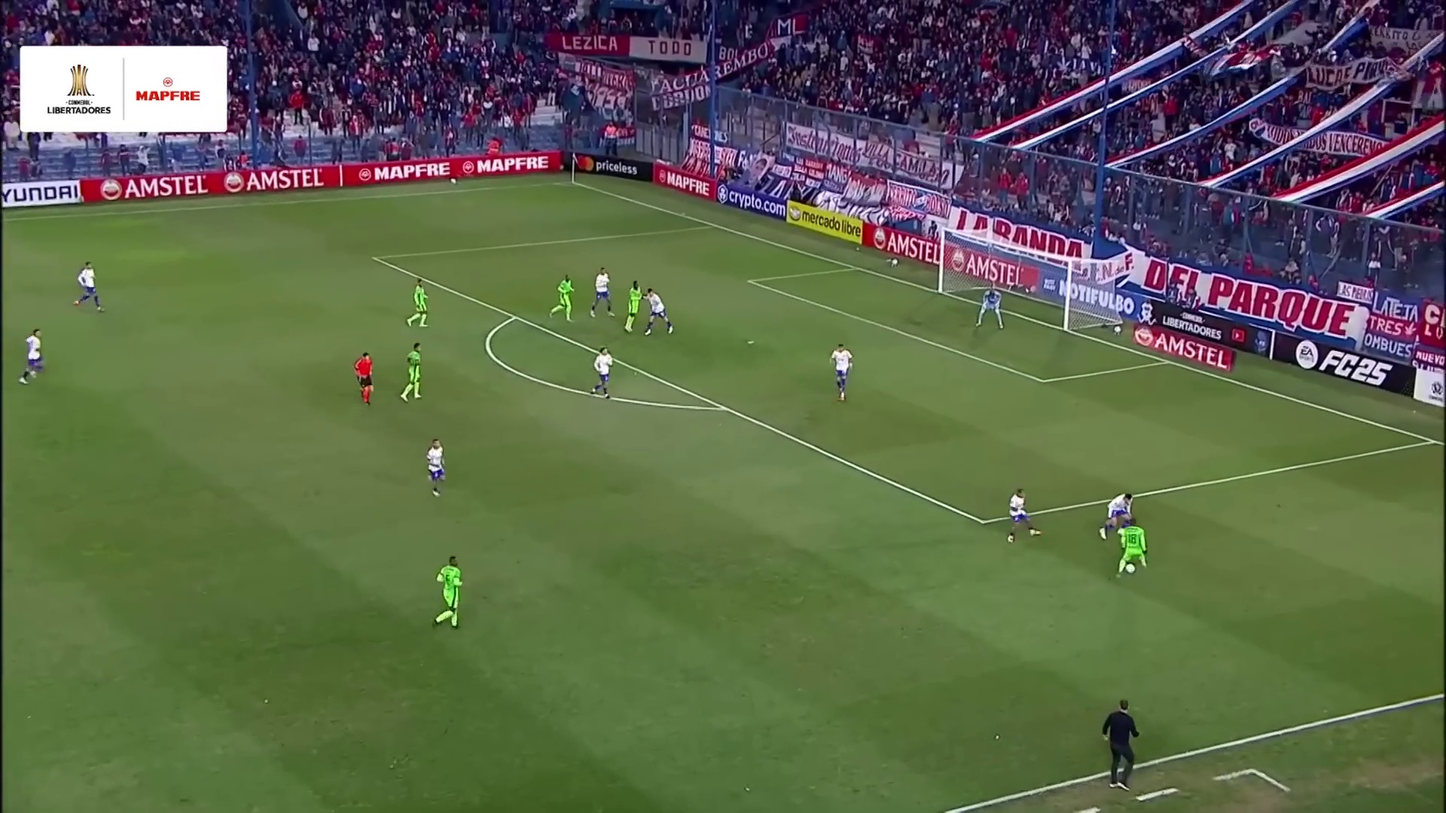ball: (1125, 563, 1137, 575)
player: (430, 554, 467, 631), (1003, 486, 1044, 545), (1114, 518, 1151, 577), (15, 327, 49, 387), (826, 342, 858, 403), (1097, 491, 1135, 542), (71, 260, 106, 314), (398, 341, 427, 404), (641, 285, 675, 338), (972, 283, 1008, 332), (587, 346, 618, 402), (422, 437, 450, 498), (588, 267, 616, 319), (405, 281, 433, 330), (549, 275, 578, 322), (622, 280, 645, 335)
referee: (352, 351, 378, 408)
